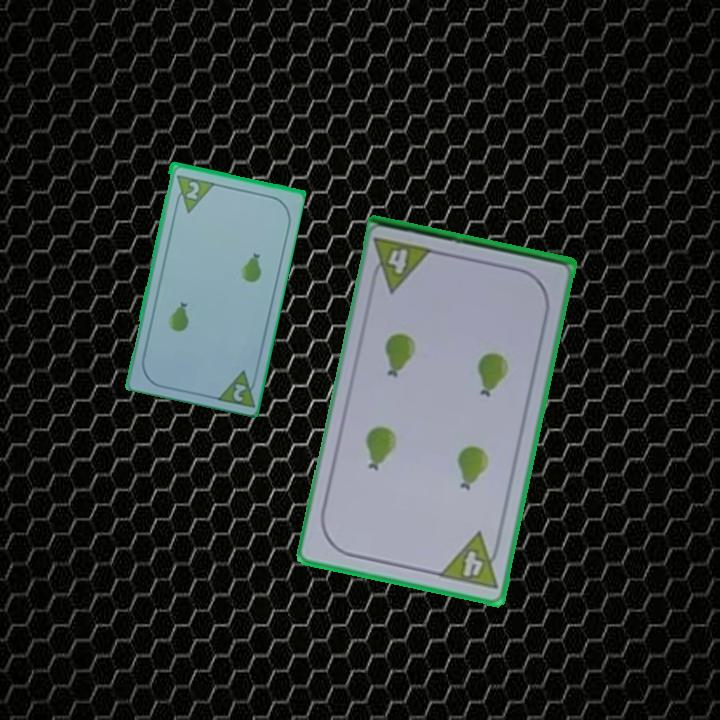2p: (211, 366, 260, 409), (170, 171, 215, 215)
4p: (435, 529, 505, 592), (367, 233, 437, 295)
